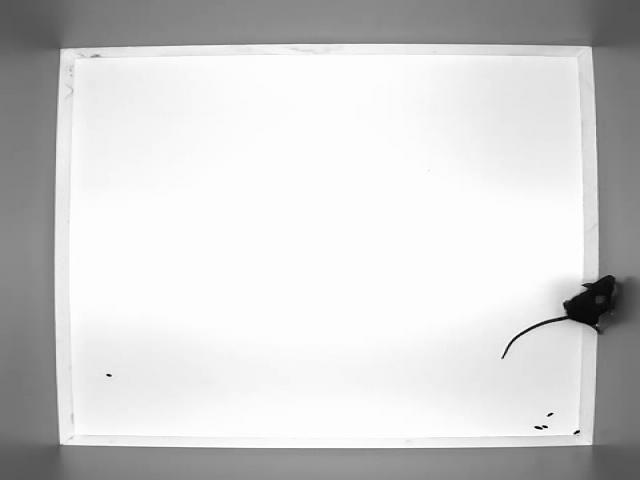Tikus: (502, 276, 623, 359)
